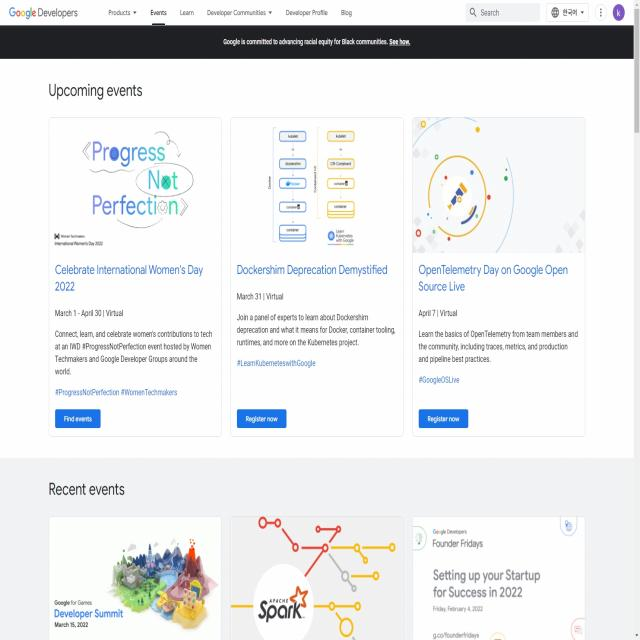menu-bar: (104, 1, 357, 23)
search: (461, 4, 542, 23)
